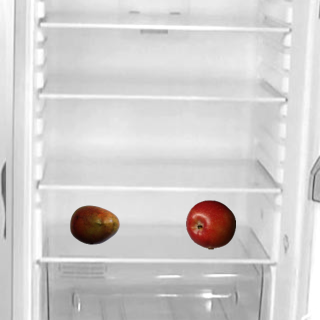Apple Braeburn: (185, 199, 235, 249)
Mango Red: (69, 199, 119, 249)
